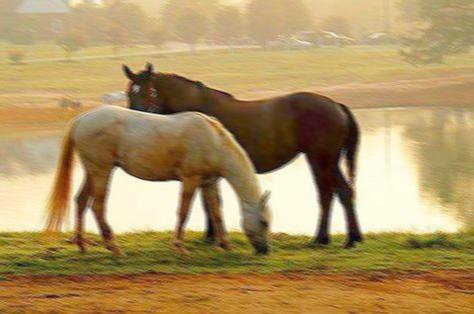horse: (121, 58, 362, 249), (38, 103, 272, 258)
